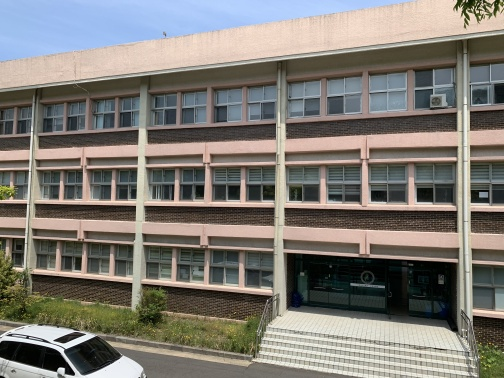College Of Education: (3, 46, 504, 325)
